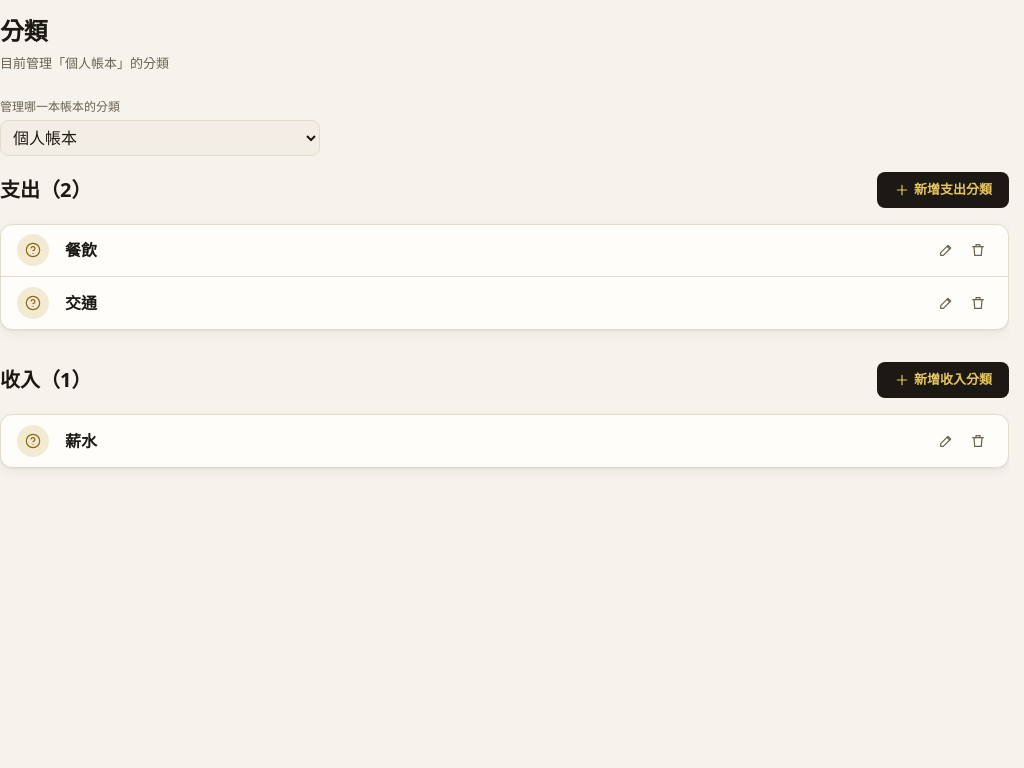
Test: Categories page › updates the list after a rename
Click the button named "改名餐飲" at (946, 250), box [932,236,960,264]
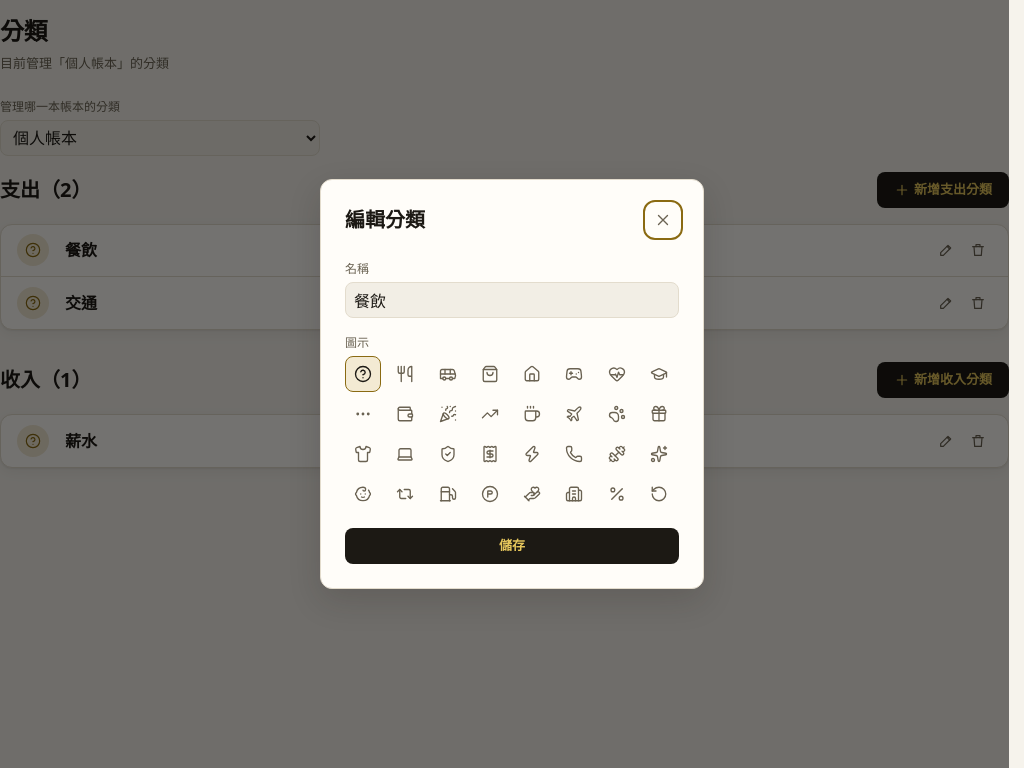
Replace the text in the field labelled "名稱" with "伙食" at (512, 300), box [345,282,679,318]
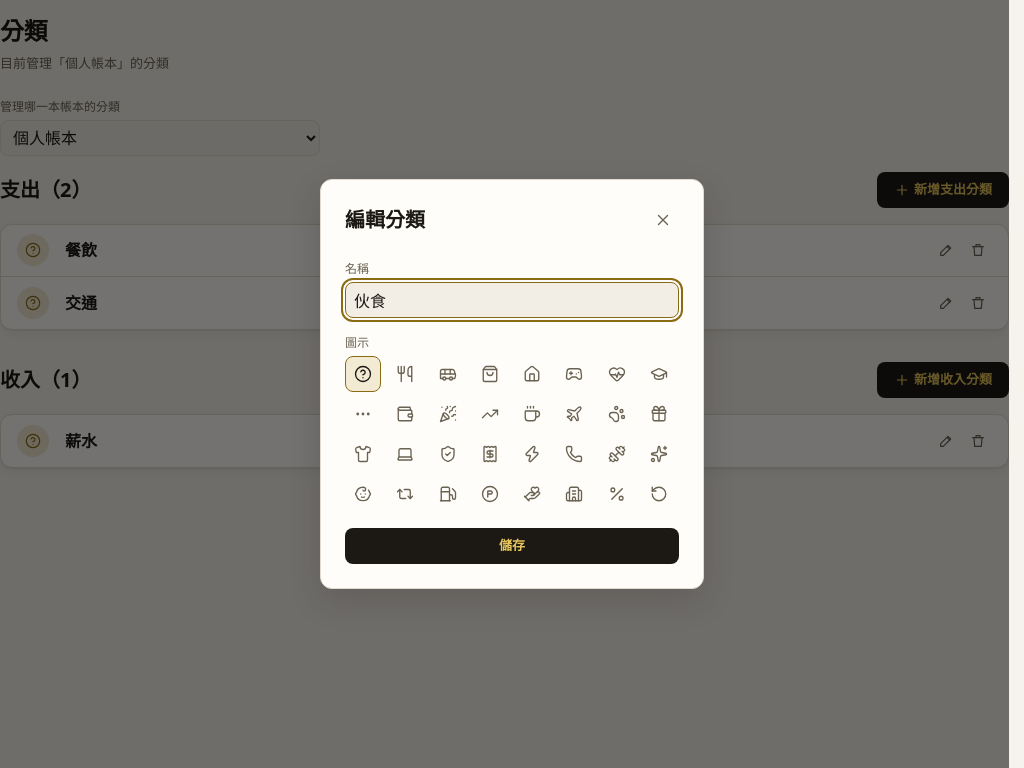
Click the button "儲存" at (512, 546), box [345,528,679,564]
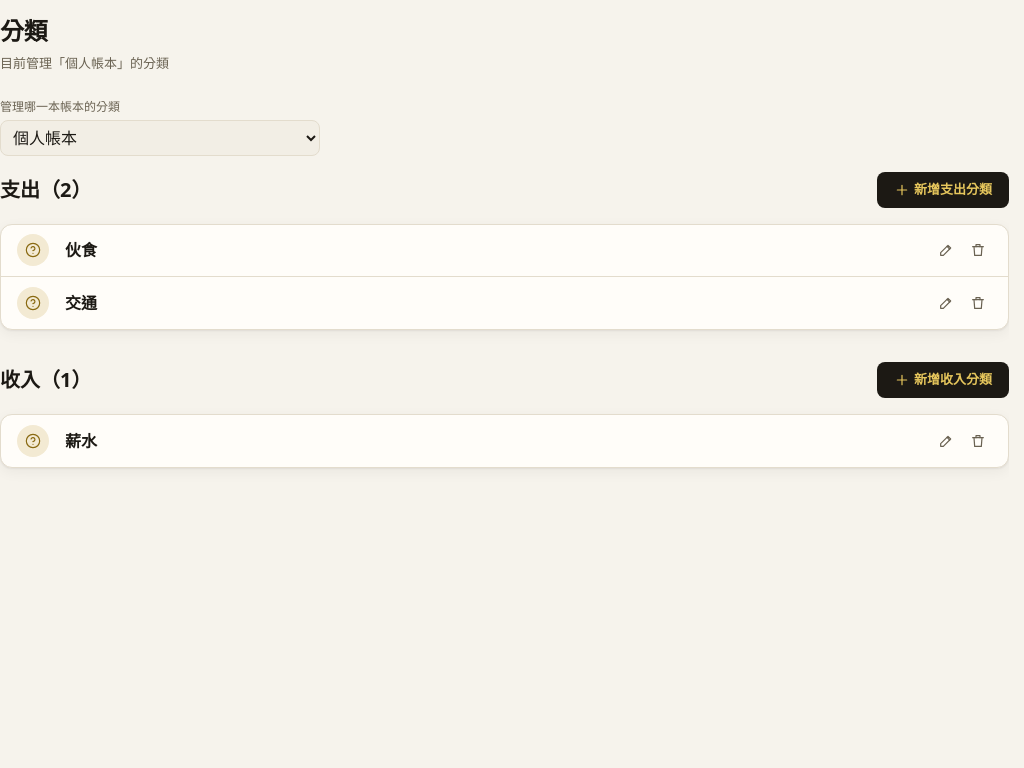
Result: the text "伙食" is shown at [65,239,97,261]
Result: the text "餐飲" is gone
